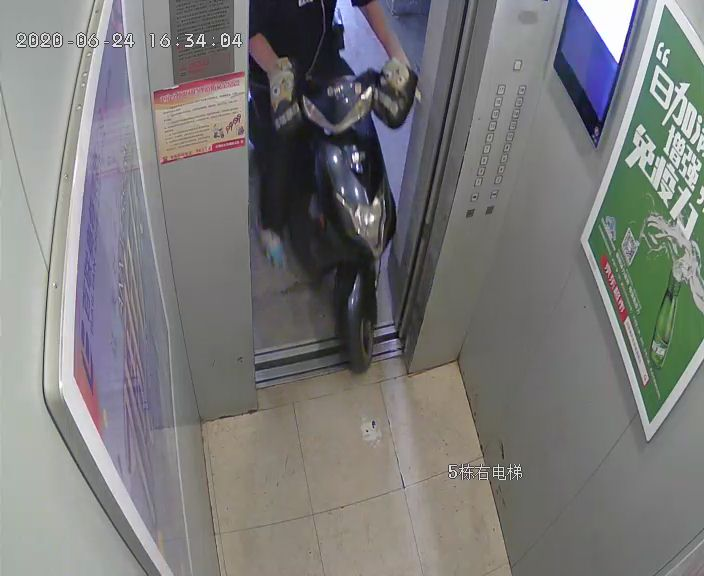Electric-bicycle: (262, 61, 412, 354)
